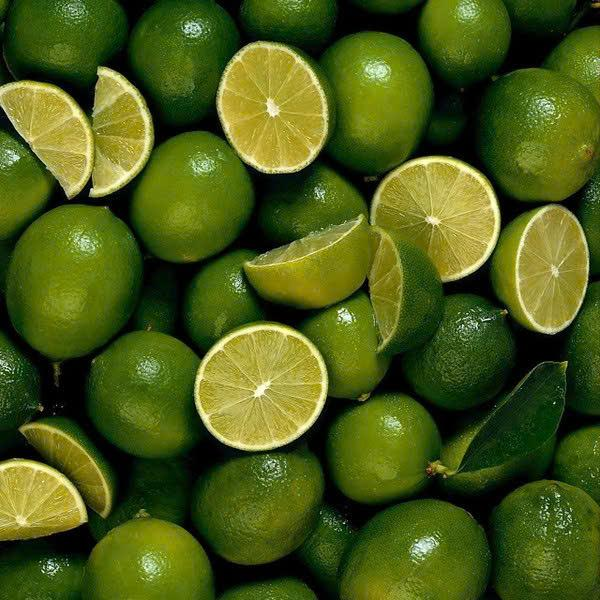lime: (227, 227, 424, 362), (3, 193, 145, 346), (177, 441, 327, 559), (6, 81, 155, 195), (324, 498, 487, 600), (331, 29, 451, 164), (216, 50, 339, 179), (197, 329, 323, 449), (0, 398, 101, 541), (383, 160, 501, 282), (490, 199, 594, 337), (86, 339, 214, 449), (487, 472, 597, 600), (64, 508, 212, 600), (146, 130, 249, 256), (490, 73, 600, 190), (319, 383, 447, 482), (133, 0, 240, 107), (0, 0, 127, 81), (423, 286, 506, 401), (427, 1, 516, 81)
